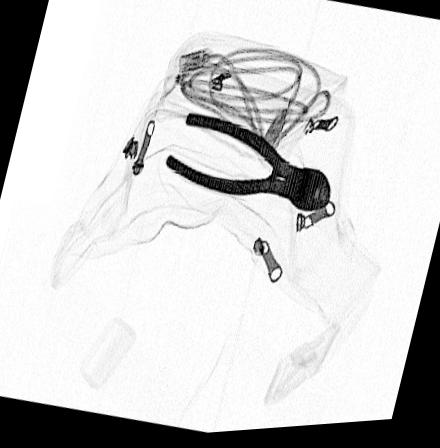Pliers: (164, 114, 331, 216)
